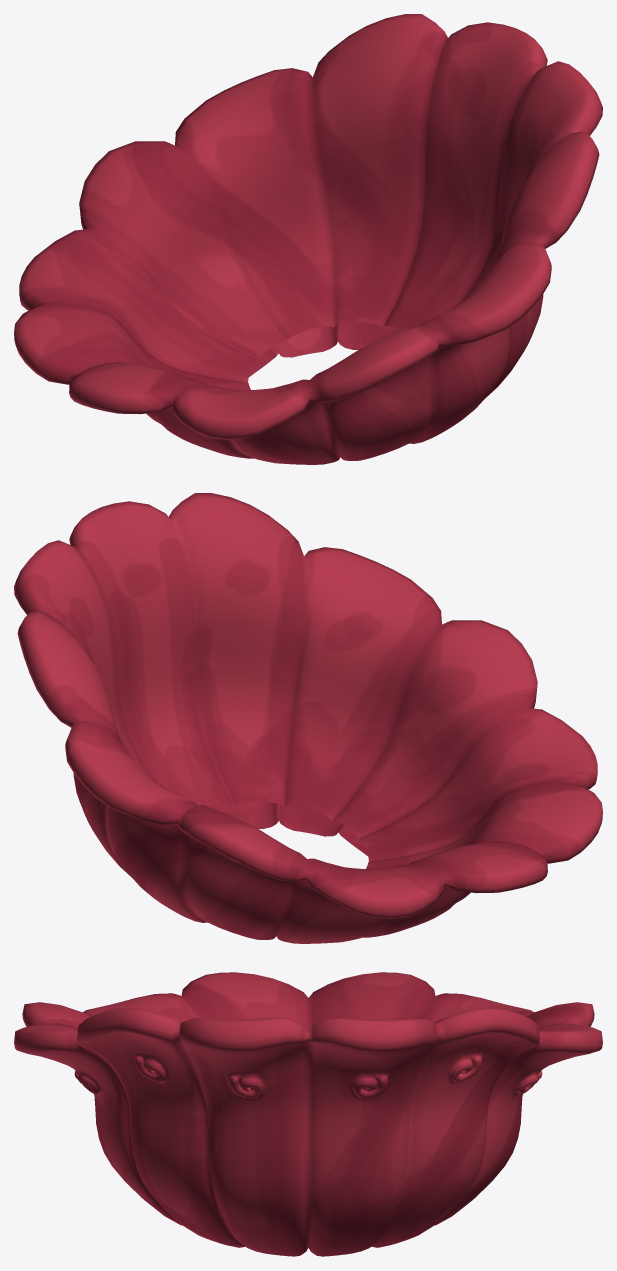
File: flower.obj
The picture shows the model from 3 angles, top to bottom: view 1: azimuth 30°, elevation 25°; view 2: azimuth 150°, elevation 25°; view 3: azimuth 270°, elevation 25°; orthographic projection.
Visible parts, largest first — view 1: flower_01_flower_01Shape; view 2: flower_01_flower_01Shape; view 3: flower_01_flower_01Shape.
Part boxes in pixels (x1,y1,x2,y2): flower_01_flower_01Shape: [14, 14, 602, 464]; flower_01_flower_01Shape: [14, 493, 602, 943]; flower_01_flower_01Shape: [14, 972, 602, 1256].
Bounding box in the file's own units: 22.36 × 13.03 × 22.38.
Materials: 1 (1 with a texture image).
